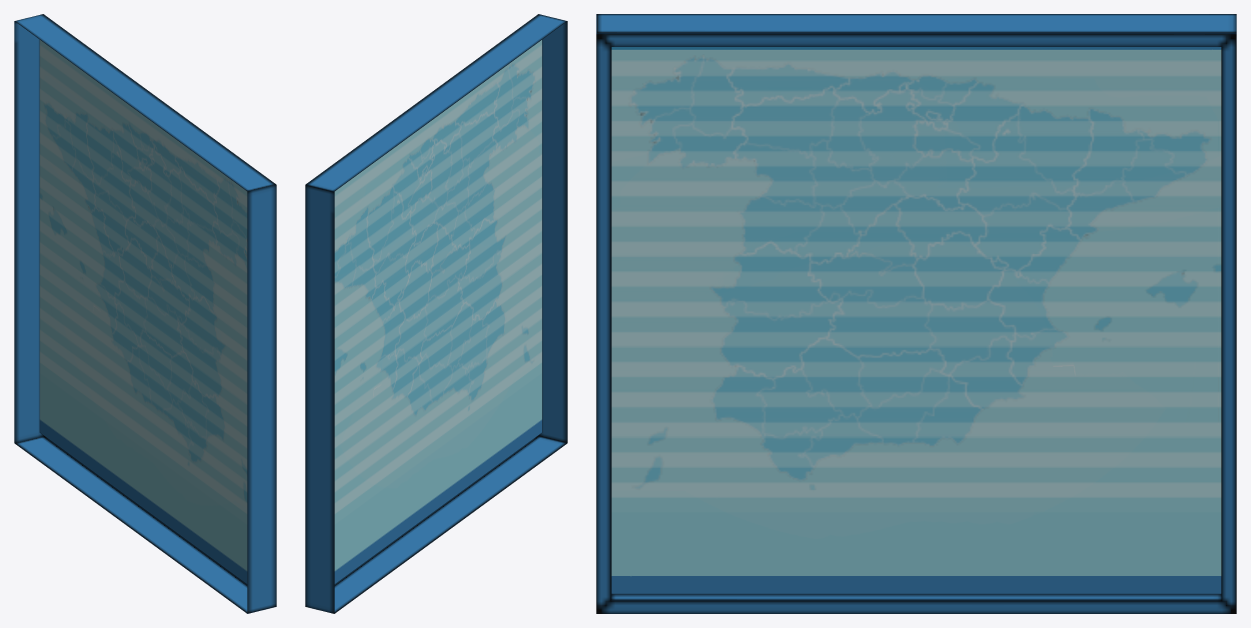
File: maps_0.3.fbx
3 views of the same model, side by side, from view 1: azimuth 30°, elevation 25°; view 2: azimuth 150°, elevation 25°; view 3: azimuth 270°, elevation 25° (orthographic). The views are drawn at different scales.
Visible parts, largest first — view 1: MAPS; view 2: MAPS; view 3: MAPS.
Part boxes in pixels (bbox=[...]): MAPS: bbox=[14, 14, 276, 613]; MAPS: bbox=[305, 14, 567, 613]; MAPS: bbox=[596, 14, 1236, 613].
Size of the model in its own units: 15.14 by 210 by 210.
